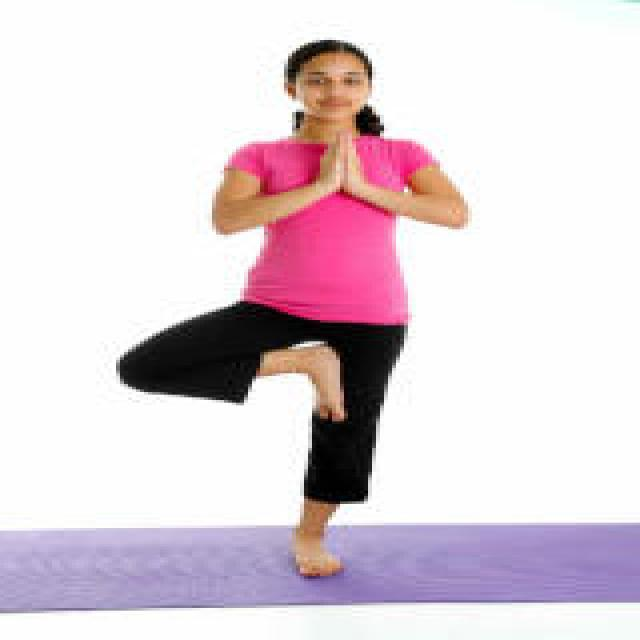yoga-pose tree: (121, 31, 475, 576)
